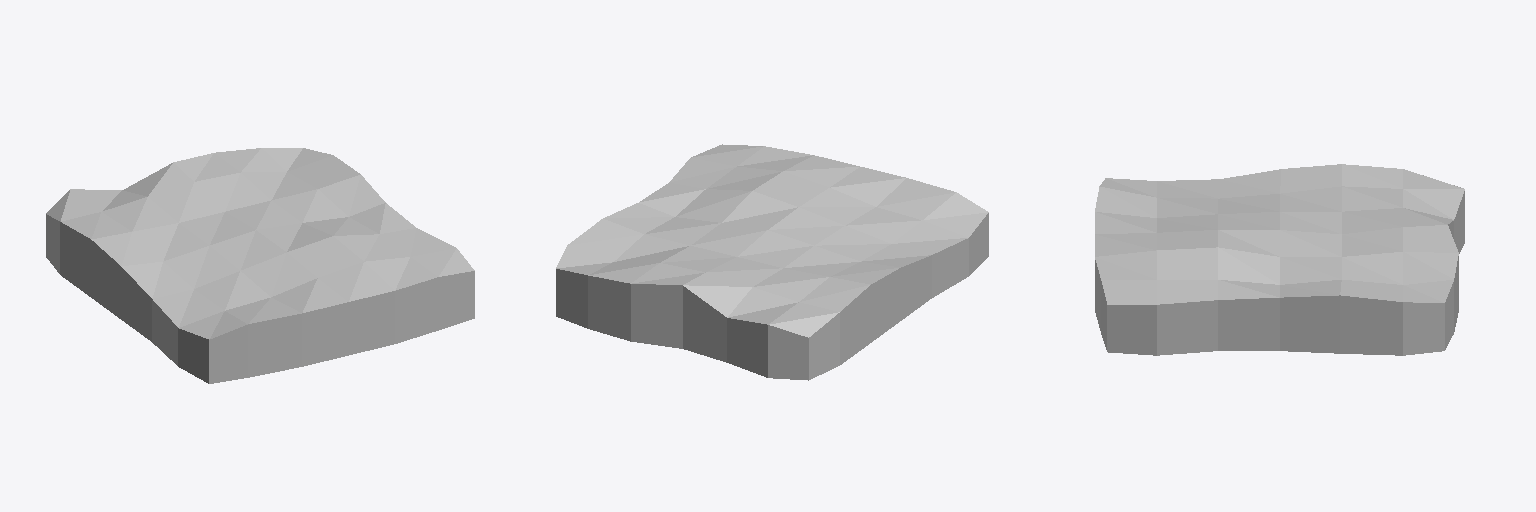
Rendered from PathStone.OBJ.
3 renders of one model, left to right at view 1: azimuth 30°, elevation 25°; view 2: azimuth 150°, elevation 25°; view 3: azimuth 270°, elevation 25°, orthographic.
Parts seen in each view (by area): view 1: Group2; view 2: Group2; view 3: Group2.
Boxes of the visible parts, <box> form: Group2: <box>46,148,474,383</box>; Group2: <box>556,144,988,380</box>; Group2: <box>1095,164,1464,355</box>.
Size of the model in its own units: 5.45 by 1.19 by 6.28.